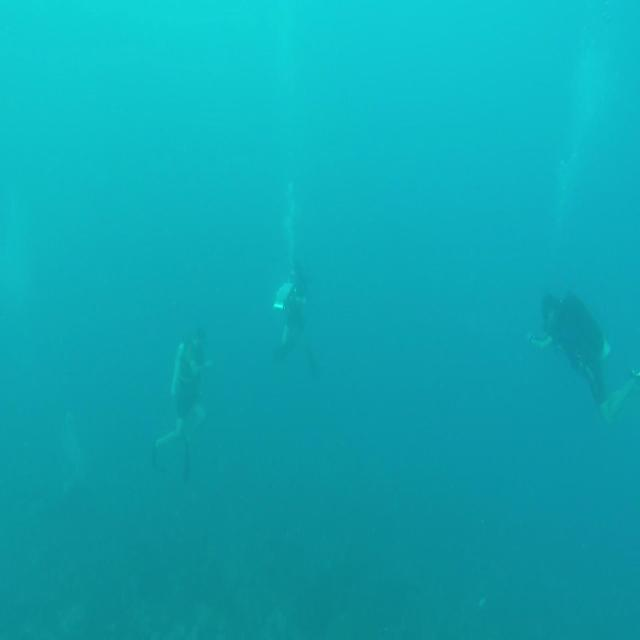human: (528, 288, 639, 424), (151, 324, 213, 481), (271, 259, 320, 376)
